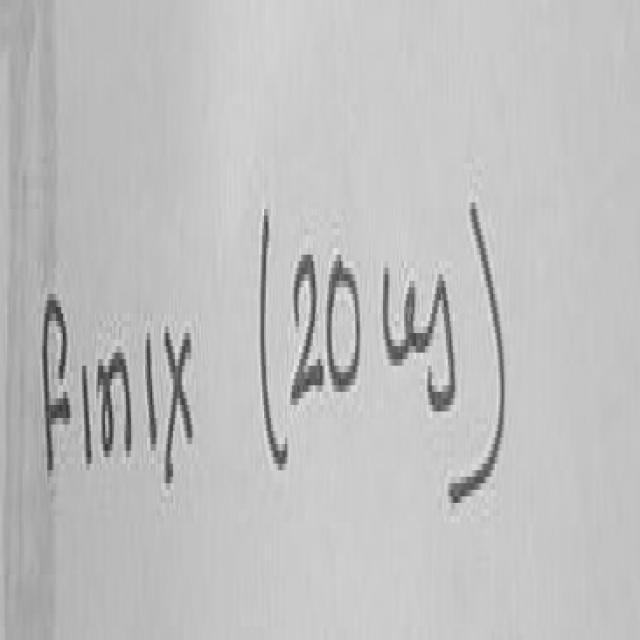0: (327, 255, 362, 389)
2: (292, 255, 323, 402)
F: (42, 294, 70, 467)
g: (424, 275, 458, 416)
i: (145, 333, 157, 447), (83, 366, 91, 460)
m: (386, 268, 442, 362)
n: (99, 336, 131, 454)
x: (164, 333, 192, 480)
